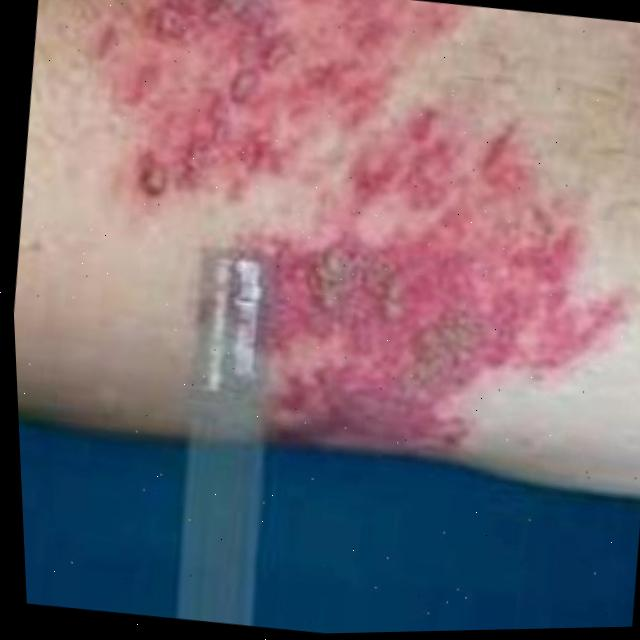Shingles: (68, 0, 640, 487)
